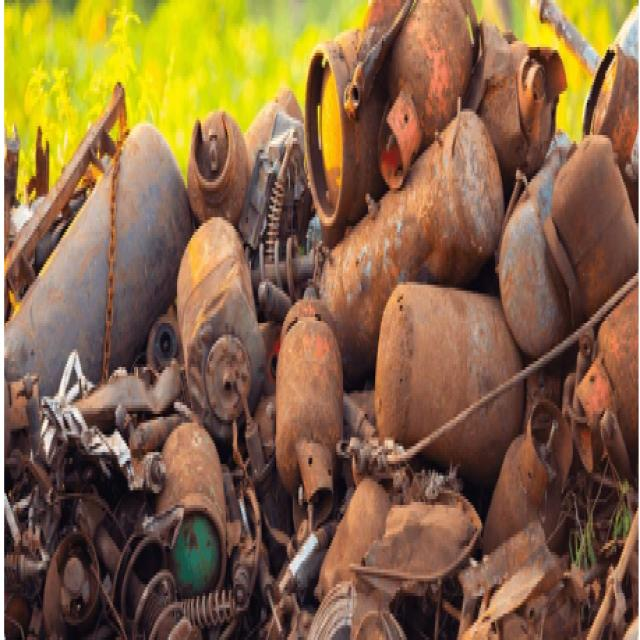cylinder: (176, 215, 265, 438), (377, 2, 480, 189), (275, 296, 343, 530), (480, 402, 575, 558)
shock absorber: (265, 134, 296, 259), (175, 585, 249, 628)
